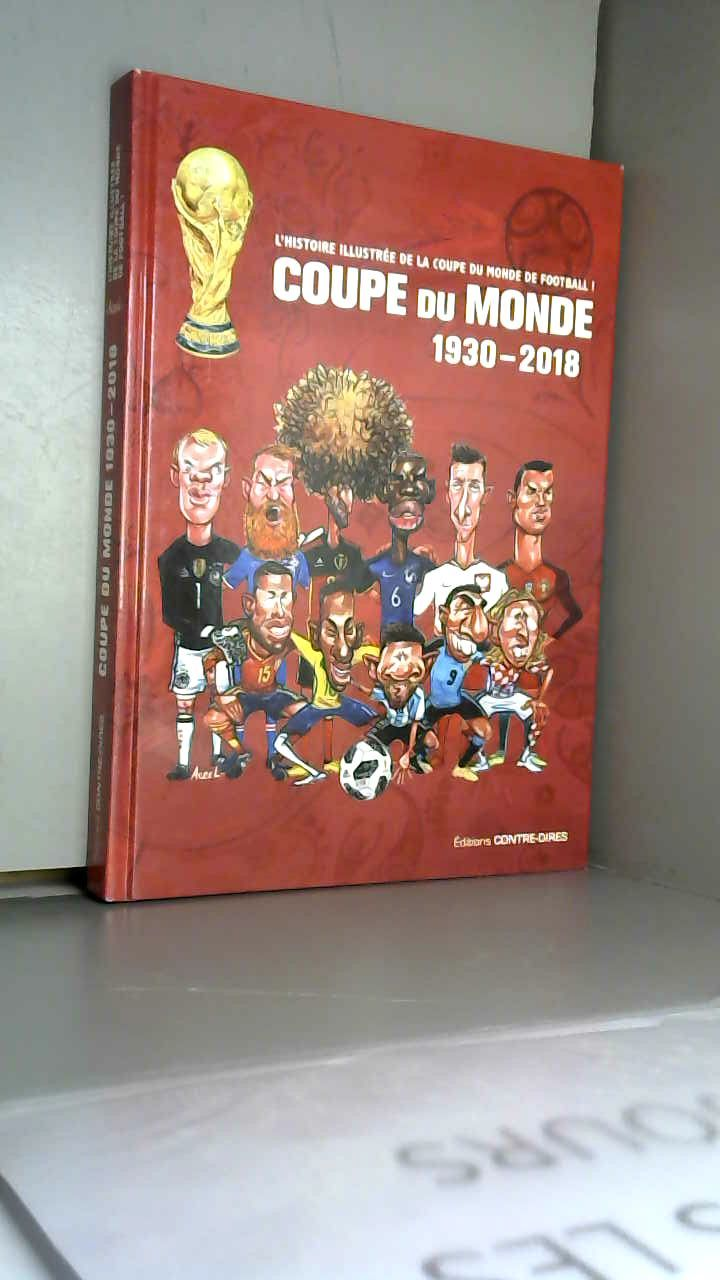book: (60, 40, 718, 930)
